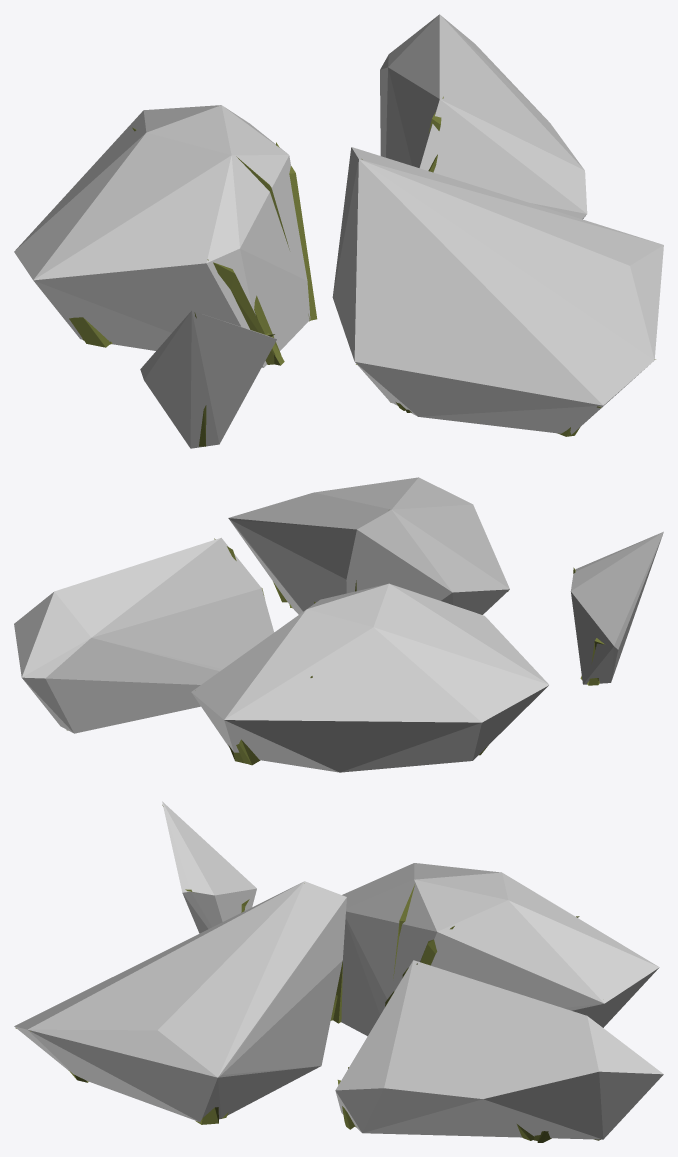
File: SM_Generic_Grass_Patch_03.fbx
The picture shows the model from 3 angles, top to bottom: view 1: azimuth 30°, elevation 25°; view 2: azimuth 150°, elevation 25°; view 3: azimuth 270°, elevation 25°; orthographic projection. The views are drawn at different scales.
Visible parts, largest first — view 1: SM_Generic_Grass_Patch_03_ConvexHulls, SM_Generic_Grass_Patch_03; view 2: SM_Generic_Grass_Patch_03_ConvexHulls, SM_Generic_Grass_Patch_03; view 3: SM_Generic_Grass_Patch_03_ConvexHulls, SM_Generic_Grass_Patch_03.
Boxes of the visible parts, box(x1,y1,x2,y2) form: SM_Generic_Grass_Patch_03_ConvexHulls: box(14, 14, 663, 448); SM_Generic_Grass_Patch_03: box(69, 96, 655, 446); SM_Generic_Grass_Patch_03_ConvexHulls: box(14, 477, 663, 772); SM_Generic_Grass_Patch_03: box(67, 538, 604, 765); SM_Generic_Grass_Patch_03_ConvexHulls: box(14, 801, 663, 1139); SM_Generic_Grass_Patch_03: box(15, 805, 600, 1142).
Bounding box in the file's own units: 274 × 329 × 94.3.
Materials: 2 (1 with a texture image).
